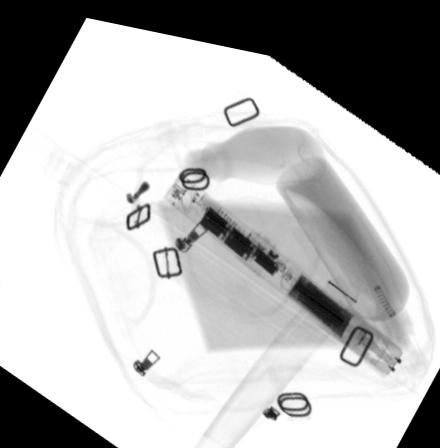Baton: (159, 159, 405, 360)
